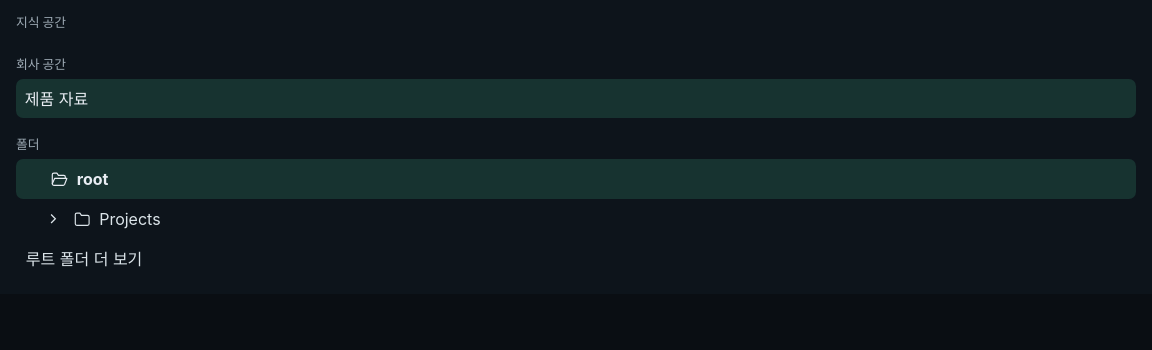
Test: consumes a root folder cursor only once during repeated activation
Click the button "루트 폴더 더 보기". click: (84, 258)
box: 16,239 -> 152,278
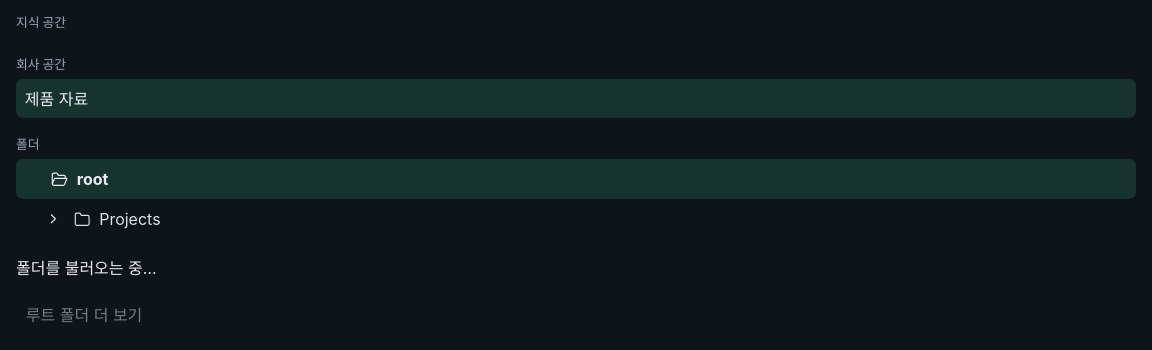
Check: the button "루트 폴더 더 보기" is disabled
Click the button "루트 폴더 더 보기". click: (84, 314)
box: 16,295 -> 152,334
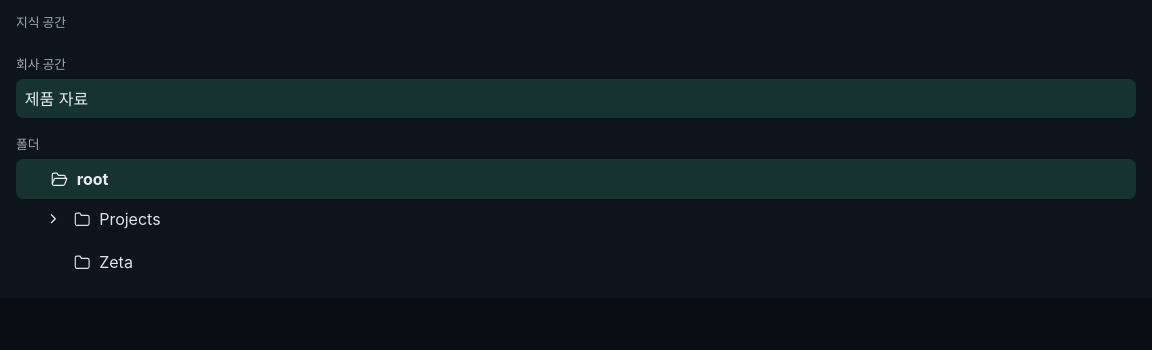
Check: the number of buttons named "Zeta 폴더 열기" is 1, box 66,242 -> 1136,282
